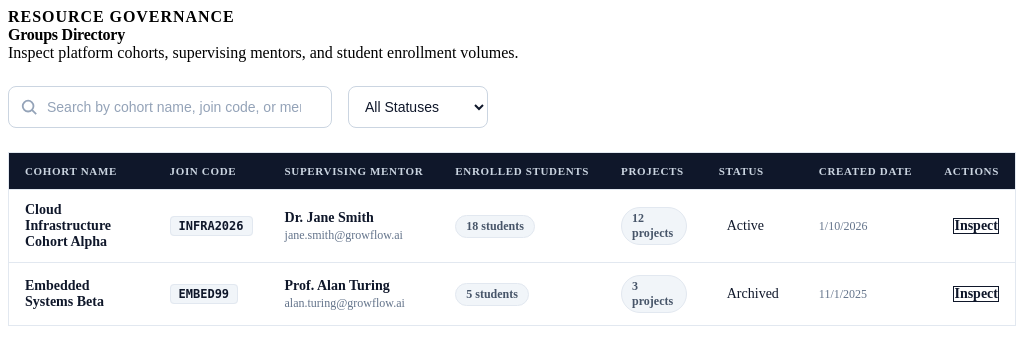
Test: GrowFlow Phase 7 Batch 7 Part 2 — Admin Governance Resources › AD06 — Groups Directory (/admin/groups) › renders groups list, metrics, and handles search & status filtering
Expected: the link "Cloud Infrastructure Cohort Alpha" is shown, [25, 202, 111, 249]
Expected: the link "Embedded Systems Beta" is shown, [25, 278, 104, 309]
Search filter
In the search field named "search cohorts": (170, 107) [8, 86, 332, 128], type "Alpha"
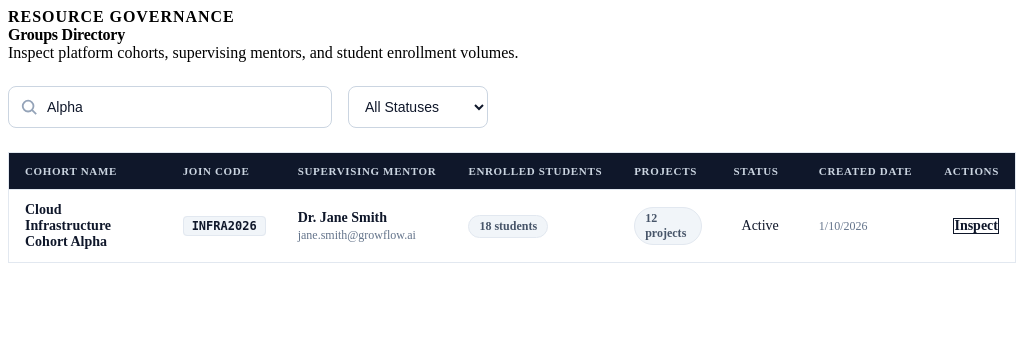
Expected: the link "Cloud Infrastructure Cohort Alpha" is shown, [25, 202, 111, 249]
Expected: the link "Embedded Systems Beta" is gone
Clear search
Clear the search field named "search cohorts": (170, 107) [8, 86, 332, 128]
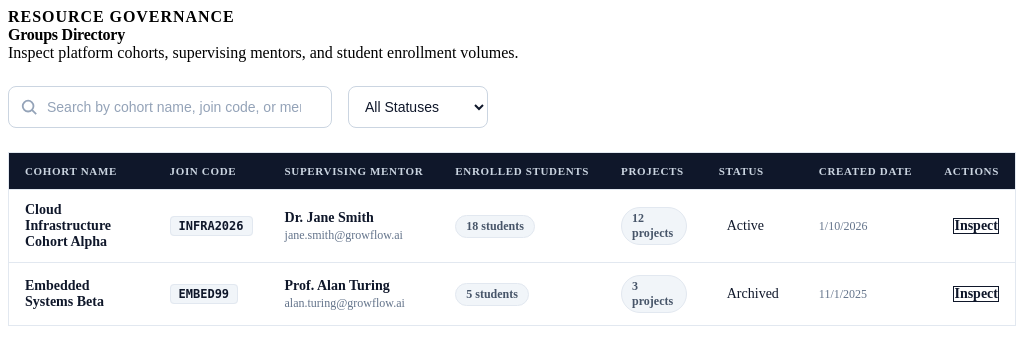
Expected: the link "Cloud Infrastructure Cohort Alpha" is shown, [25, 202, 111, 249]
Expected: the link "Embedded Systems Beta" is shown, [25, 278, 104, 309]
Status filter
Select "Archived" in the dropdown named "filter by status": (418, 107) [348, 86, 488, 128]
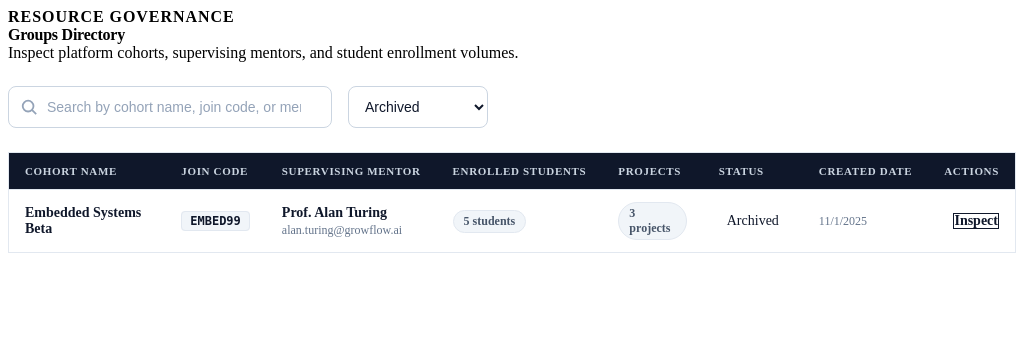
Expected: the link "Embedded Systems Beta" is shown, [25, 205, 141, 236]
Expected: the link "Cloud Infrastructure Cohort Alpha" is gone
